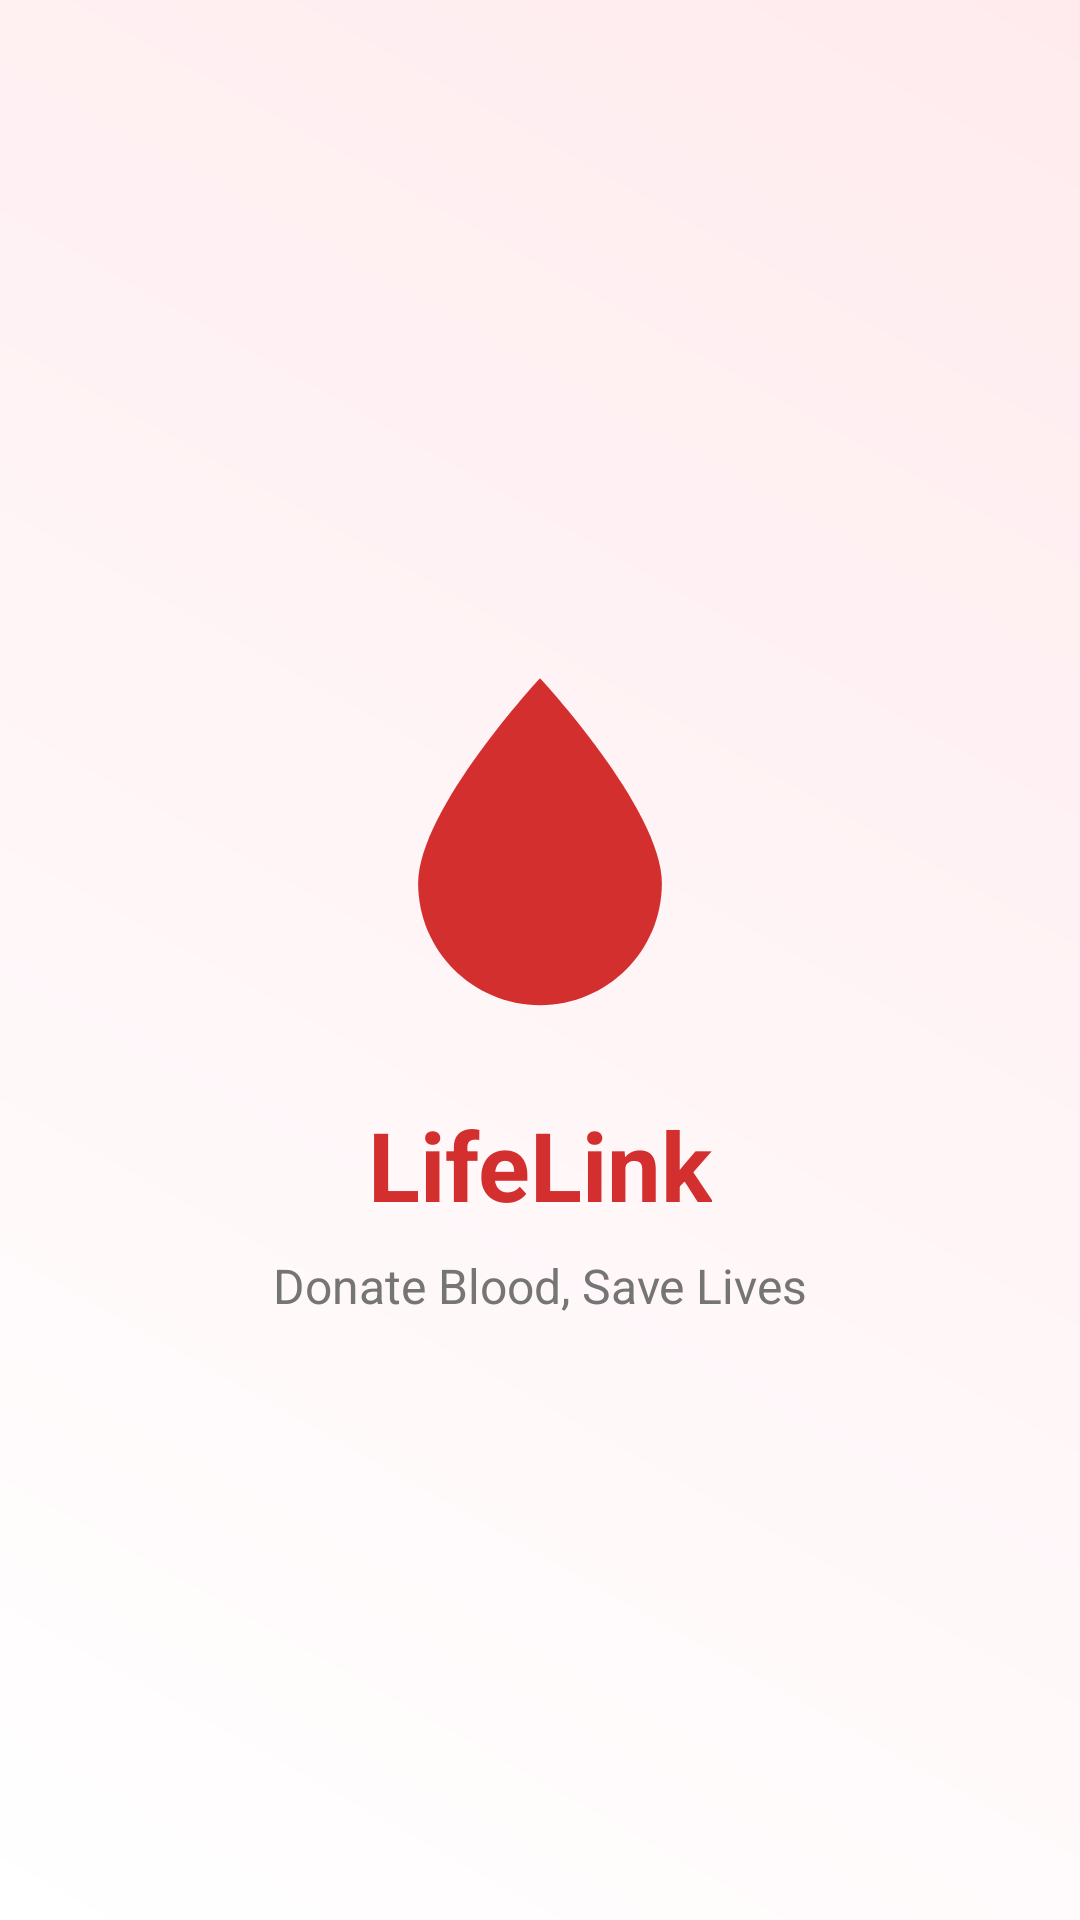

Icon bounding boxes for this 1080*1920 phone screenshot, format {"x1": x1, "y1": y1, "x2": x2, "y2": y2}:
blood drop: {"x1": 418, "y1": 678, "x2": 662, "y2": 1006}
